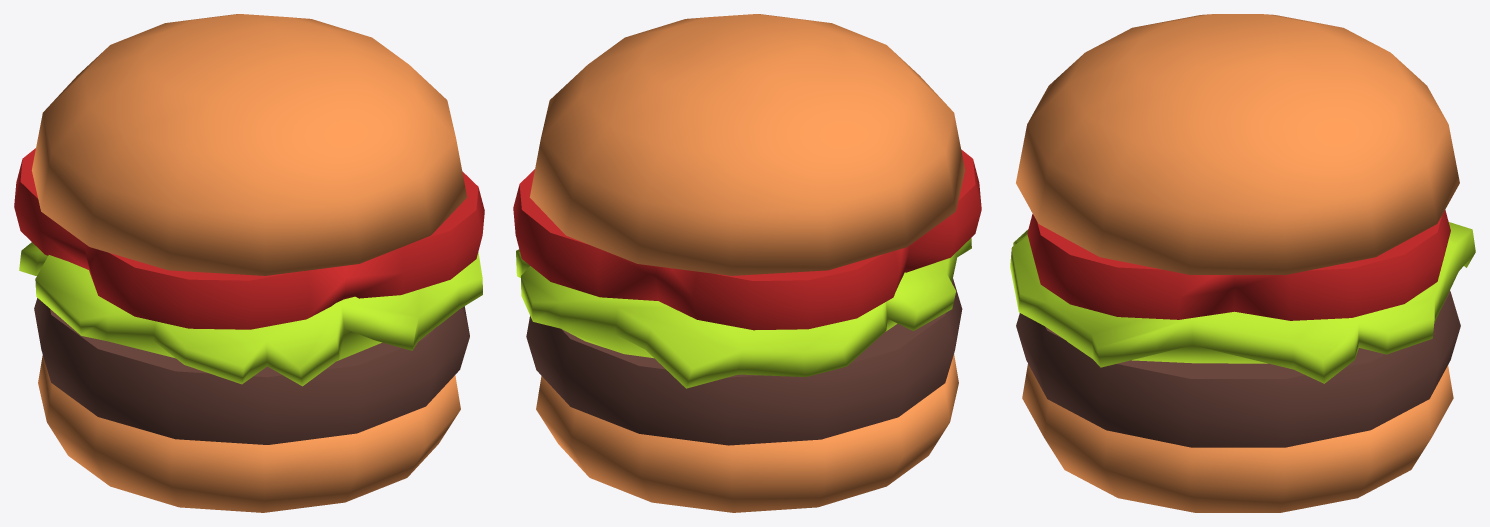
File: Burger_geo.fbx
3 renders of one model, left to right at view 1: azimuth 30°, elevation 25°; view 2: azimuth 150°, elevation 25°; view 3: azimuth 270°, elevation 25°, orthographic.
Visible parts, largest first — view 1: Burger_geo; view 2: Burger_geo; view 3: Burger_geo.
Part boxes in pixels (left/top/right/bottom): Burger_geo: left=14, top=14, right=484, bottom=512; Burger_geo: left=513, top=14, right=981, bottom=512; Burger_geo: left=1010, top=14, right=1475, bottom=512.
Bounding box in the file's own units: 0.463 × 0.4851 × 0.4713.
